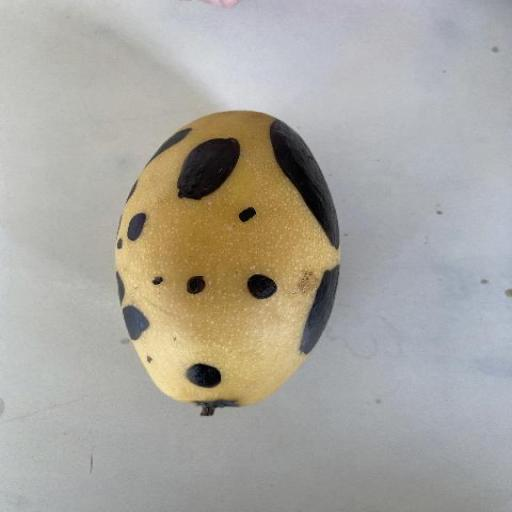mango-overripe: (75, 72, 350, 447)
